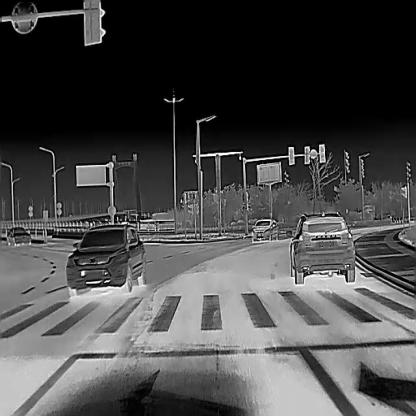car: (64, 223, 148, 296), (288, 210, 356, 284), (249, 217, 278, 242), (4, 225, 32, 246)
